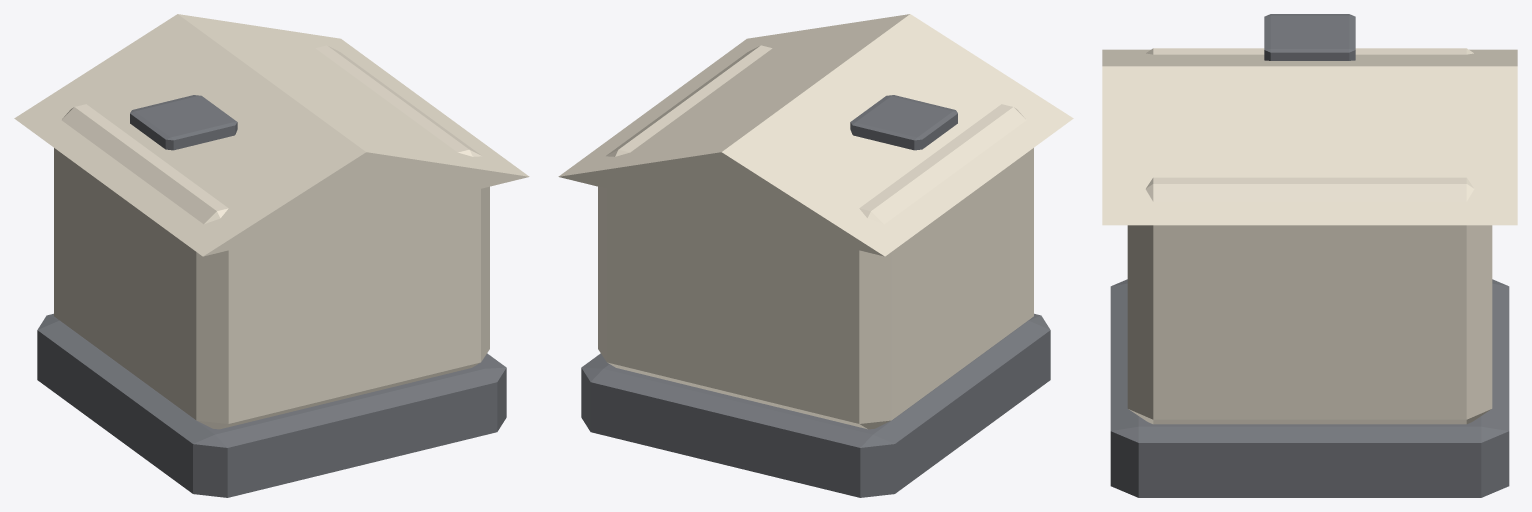
The model's file is b20_pop_up_event_canopy.glb.
The picture shows the model from 3 angles, left to right: view 1: azimuth 30°, elevation 25°; view 2: azimuth 150°, elevation 25°; view 3: azimuth 270°, elevation 25°; orthographic projection. The views are drawn at different scales.
Visible parts, largest first — view 1: b20_pop_up_event_canopy; view 2: b20_pop_up_event_canopy; view 3: b20_pop_up_event_canopy.
Part boxes in pixels (x1=…): b20_pop_up_event_canopy: x1=14, y1=14, x2=529, y2=497; b20_pop_up_event_canopy: x1=558, y1=14, x2=1073, y2=497; b20_pop_up_event_canopy: x1=1102, y1=14, x2=1517, y2=497.
Size of the model in its own units: 3.04 by 2.84 by 3.04.
